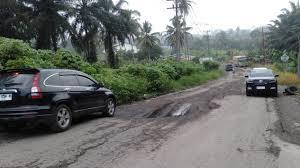Pothole: (136, 94, 197, 133)
